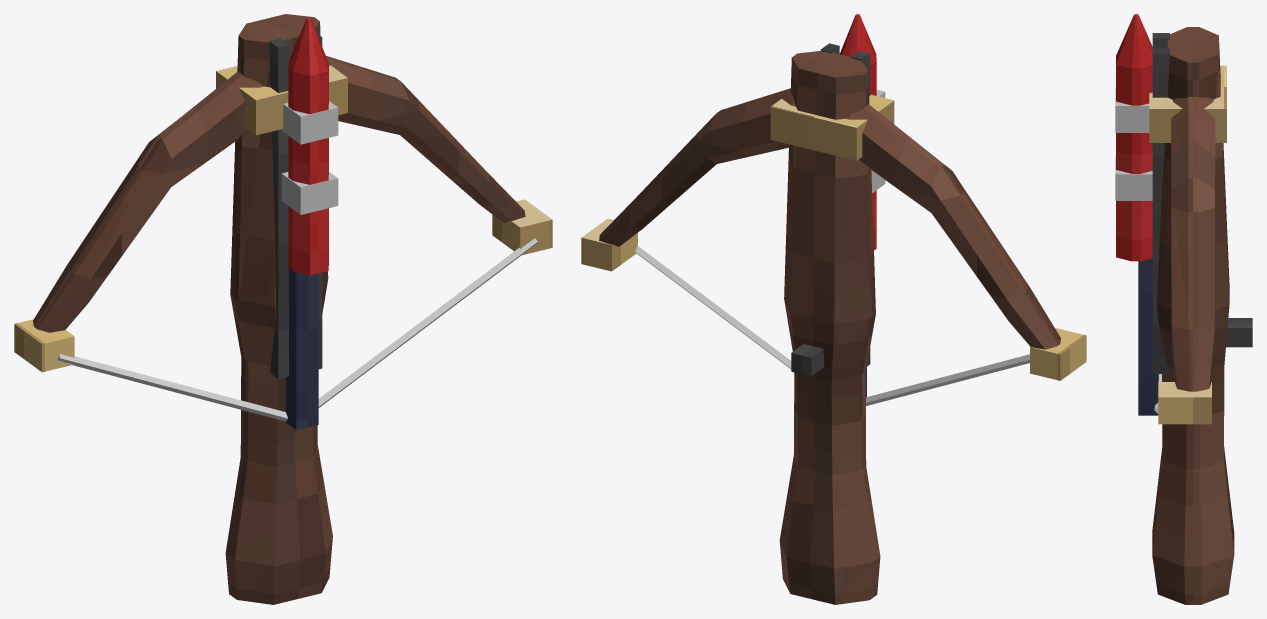
The model's file is cutout.obj.
3 views of the same model, side by side, from view 1: azimuth 30°, elevation 25°; view 2: azimuth 150°, elevation 25°; view 3: azimuth 270°, elevation 25° (orthographic). The views are drawn at different scales.
Bounding box in the file's own units: 1.14 × 1.25 × 0.2744.
